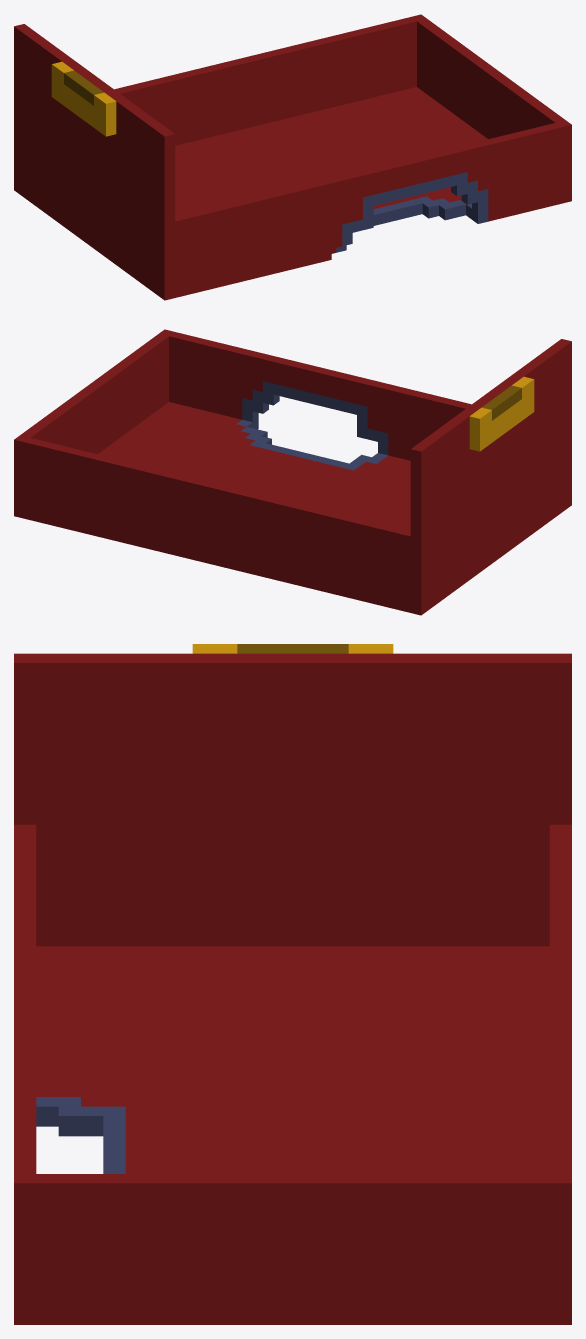
The model's file is CajonGrande2.fbx.
3 views of the same model, one above another, from view 1: azimuth 30°, elevation 25°; view 2: azimuth 150°, elevation 25°; view 3: azimuth 270°, elevation 25° (orthographic). The views are drawn at different scales.
Visible parts, largest first — view 1: Cajon_Grande_2; view 2: Cajon_Grande_2; view 3: Cajon_Grande_2.
Part boxes in pixels (bbox=[...]): Cajon_Grande_2: bbox=[14, 14, 571, 300]; Cajon_Grande_2: bbox=[14, 329, 571, 615]; Cajon_Grande_2: bbox=[14, 644, 571, 1324].
Size of the model in its own units: 400 by 150 by 250.
